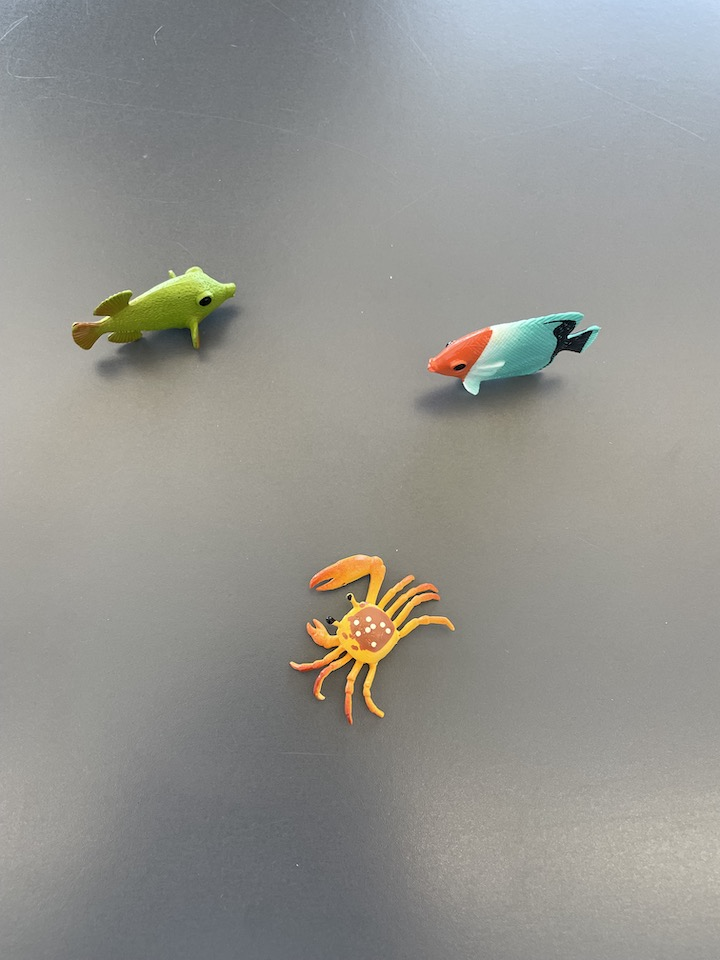crab: (285, 552, 464, 727)
fish: (68, 260, 242, 359), (422, 309, 604, 401)
